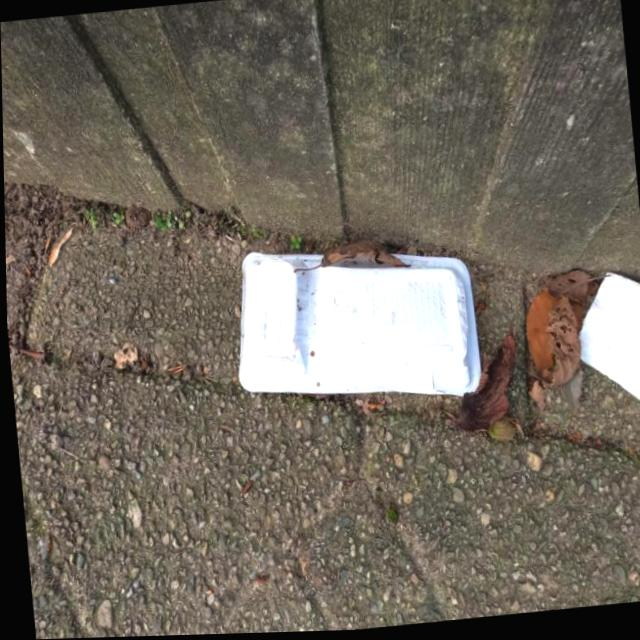Paper: (223, 232, 483, 423), (569, 268, 640, 425)
